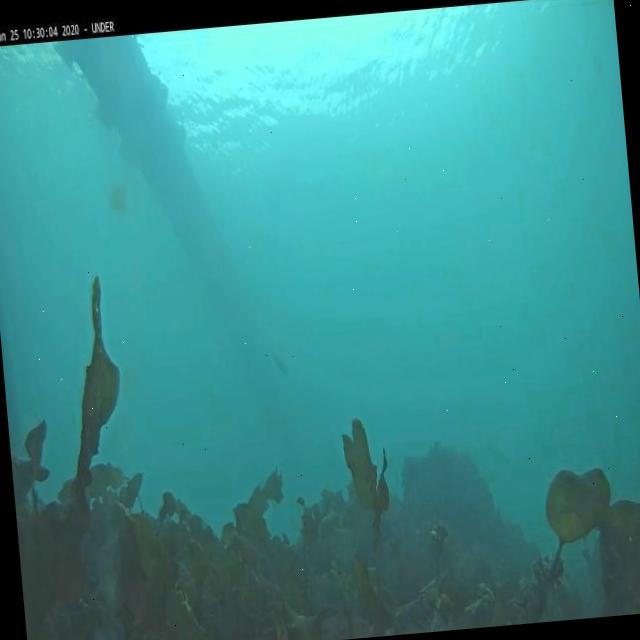fish: (272, 354, 292, 380)
